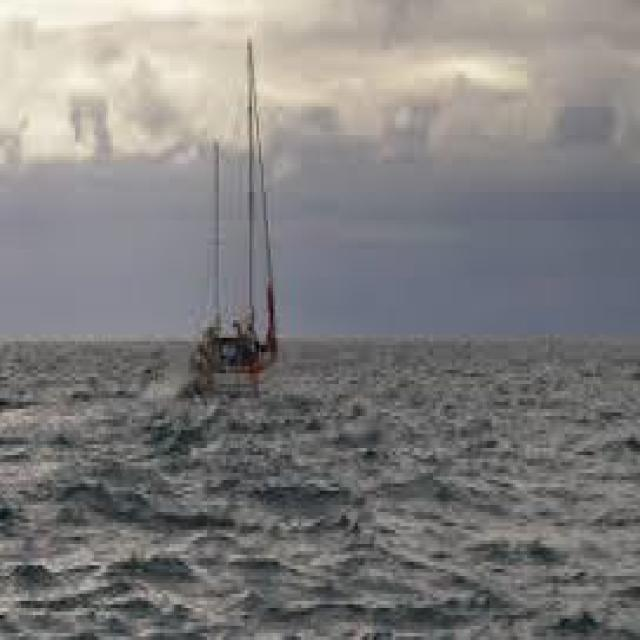fishing boat: (170, 47, 282, 408)
